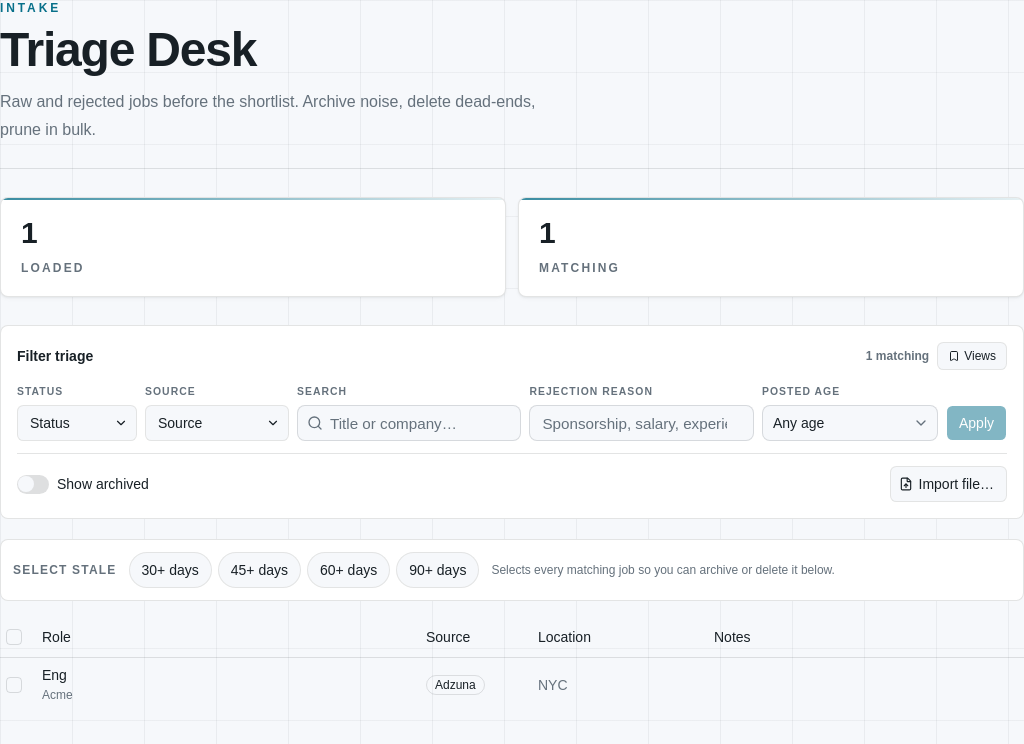
Test: TriageContainer › selecting a row enables Archive selected
expect the message "1 selected" is not shown: met
Click the checkbox named "select acme eng" at [14, 685], box 6,677 -> 22,693
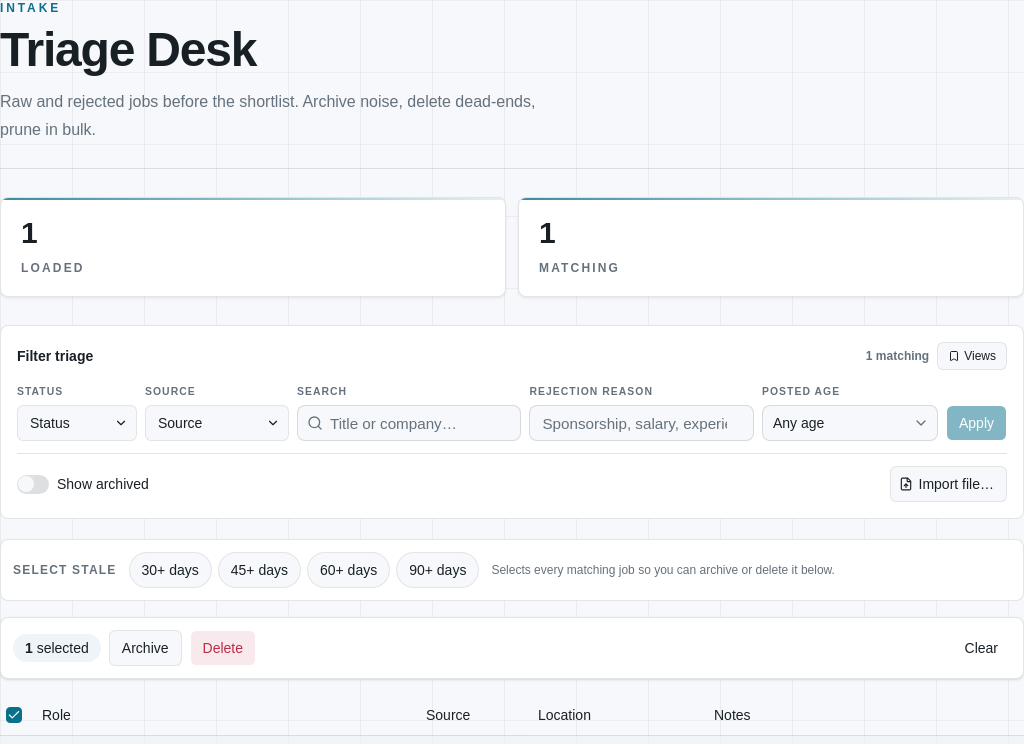
expect the search field labelled "Search" is shown: met, box 297,405 -> 522,441
expect the message "1 selected" is shown: met, box 13,634 -> 101,662
